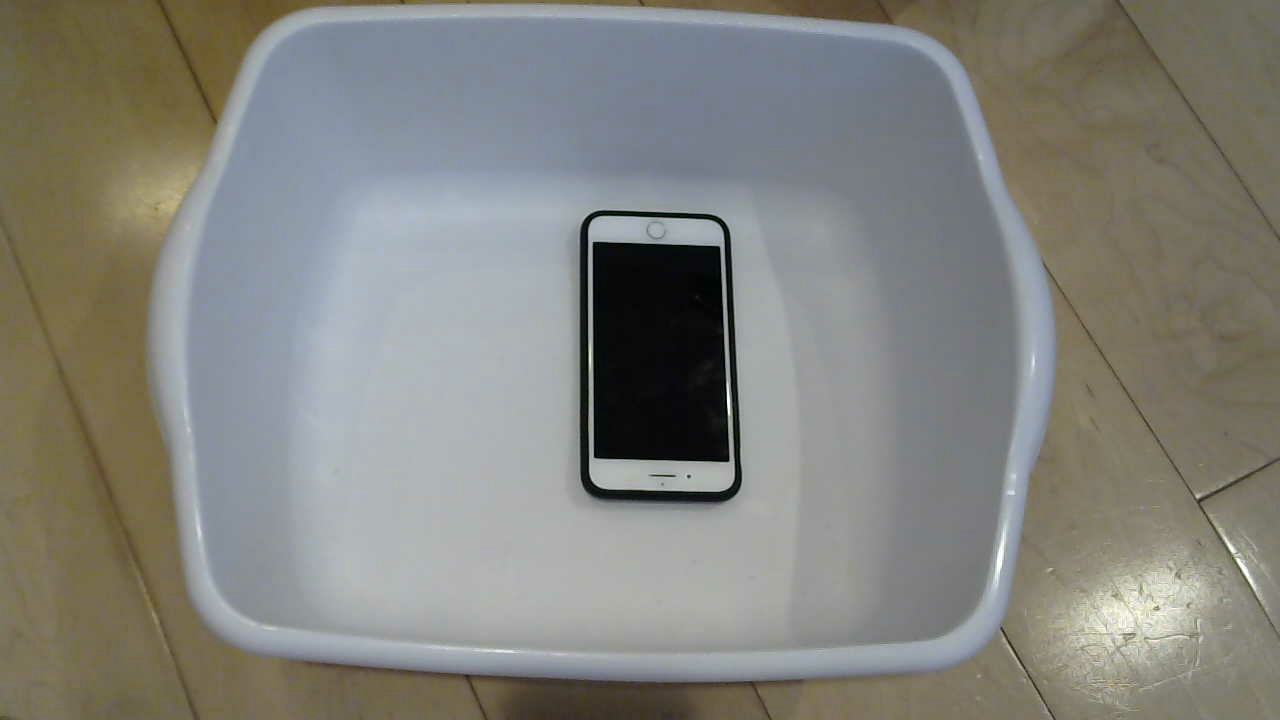phone: (567, 201, 752, 522)
